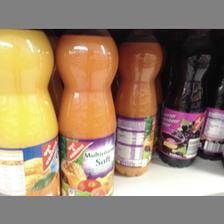Saft: (54, 28, 116, 194), (0, 28, 60, 194), (158, 28, 215, 168), (114, 28, 162, 176)
